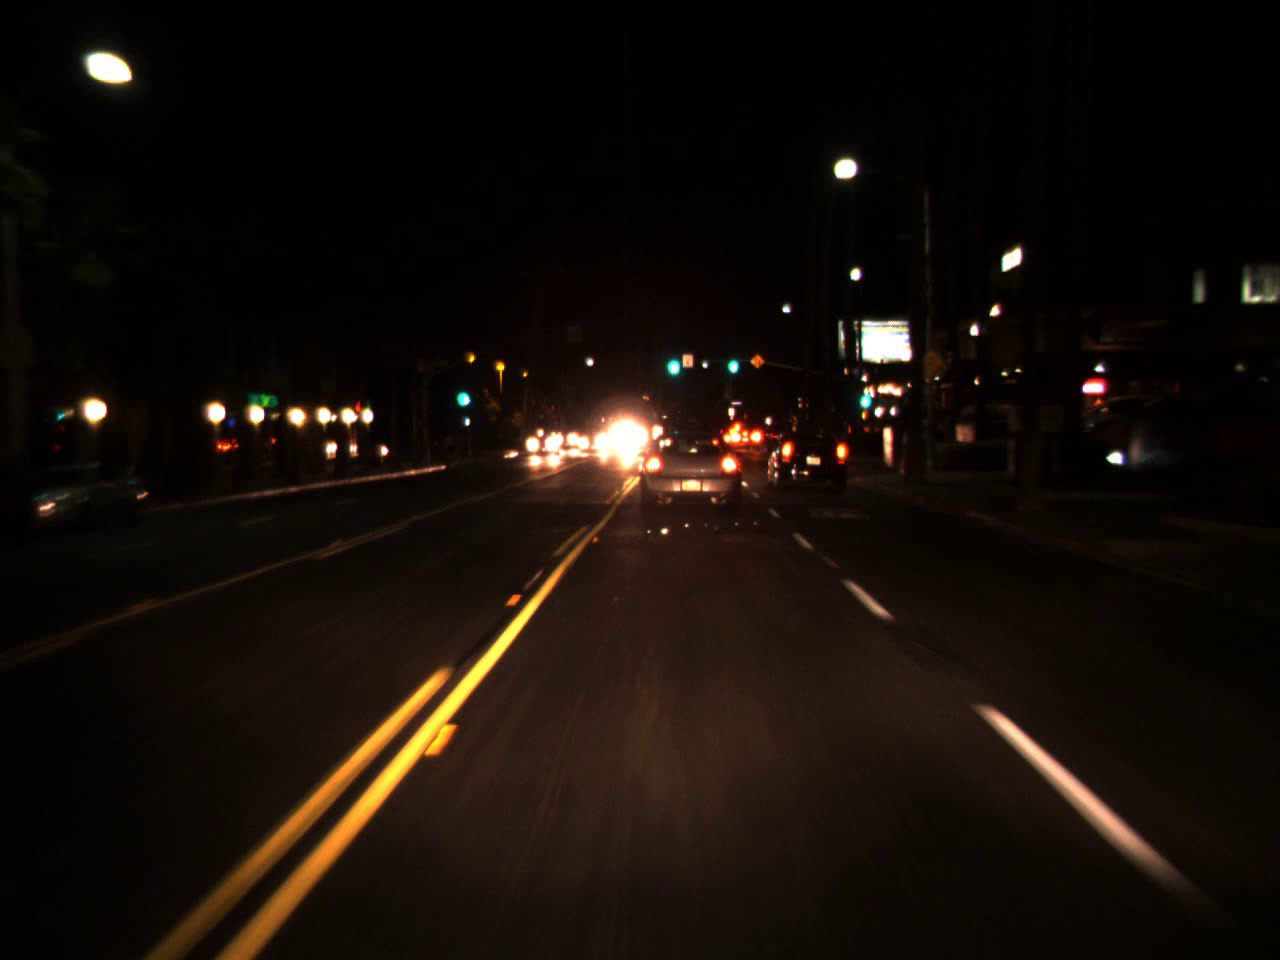go: (662, 341, 683, 380), (854, 374, 875, 413), (454, 373, 468, 412), (723, 349, 739, 373)
